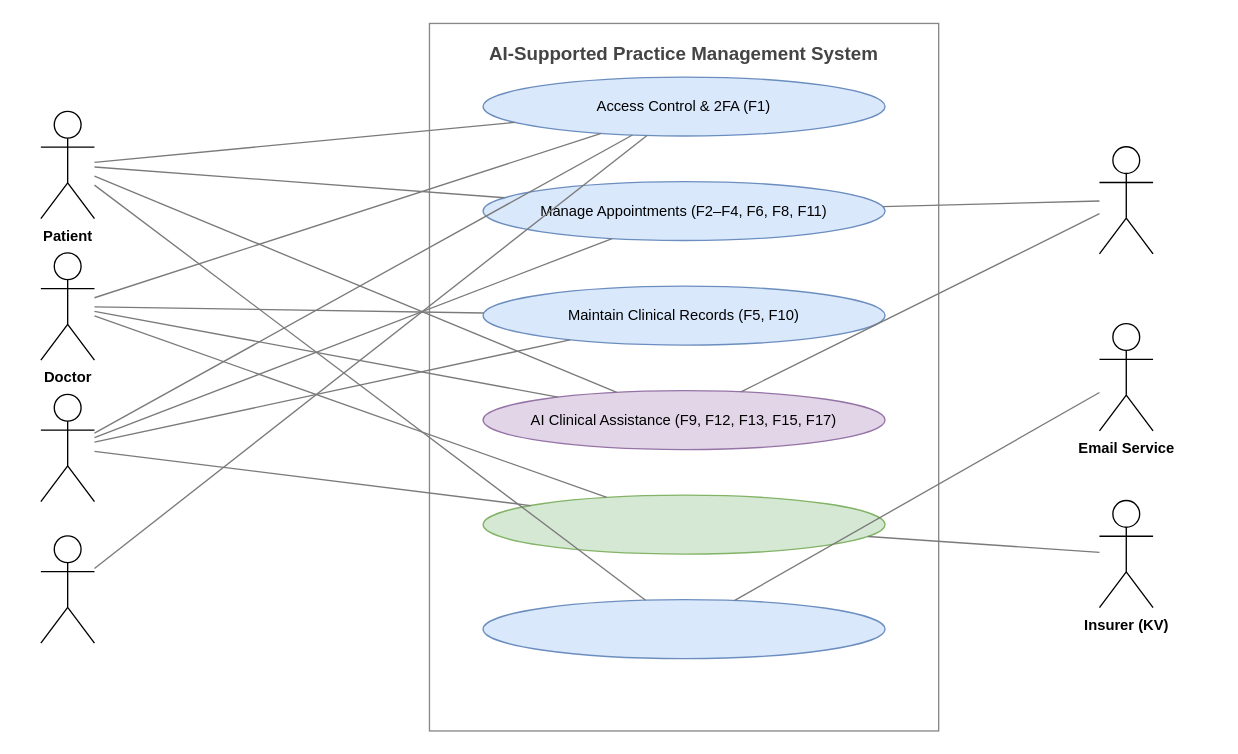
The diagram is 1238 pixels wide and 754 high, and some of its shapes have lost their labels. Each missing label, with the centre of its shape:
Admin: (x=67, y=589)
AI Assistant (LLM + RAG): (x=1125, y=199)
Billing & Invoicing (F7, F14): (x=683, y=524)
Notifications & Reminders: (x=683, y=628)
Receptionist: (x=67, y=447)
